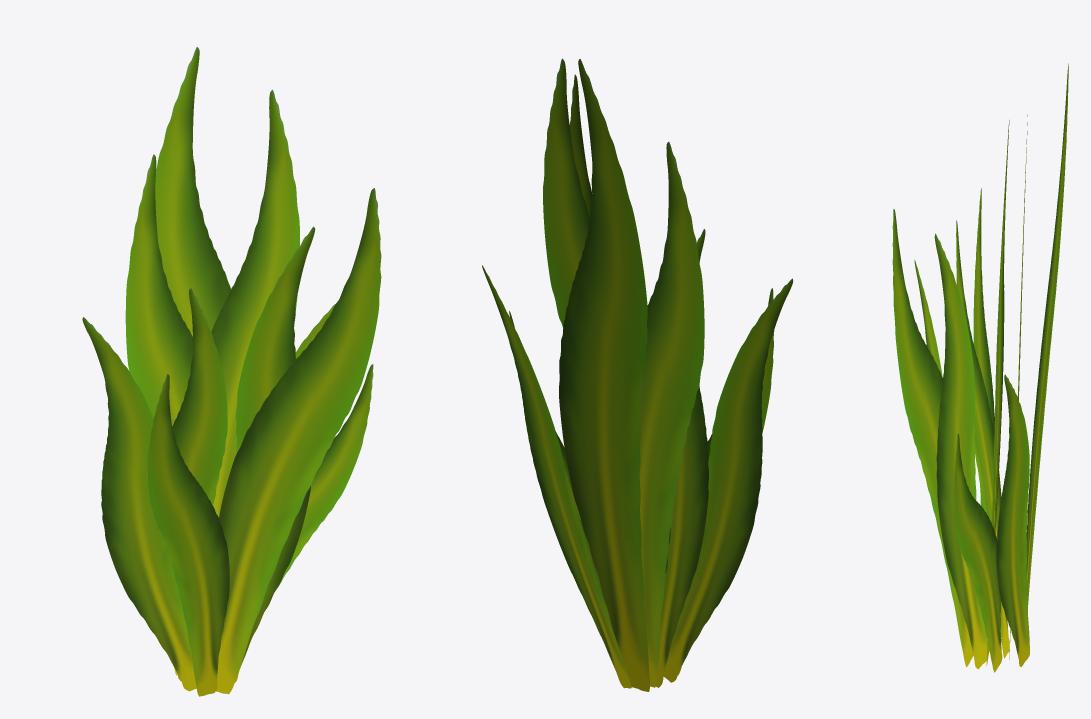
The model's file is Plant02_Dream.glb.
3 views of the same model, side by side, from view 1: azimuth 30°, elevation 25°; view 2: azimuth 150°, elevation 25°; view 3: azimuth 270°, elevation 25° (orthographic). The views are drawn at different scales.
Parts seen in each view (by area): view 1: Plant02_dream; view 2: Plant02_dream; view 3: Plant02_dream.
Boxes of the visible parts, x1=… form: Plant02_dream: x1=82, y1=47, x2=381, y2=696; Plant02_dream: x1=482, y1=58, x2=793, y2=691; Plant02_dream: x1=892, y1=63, x2=1068, y2=672.
Size of the model in its own units: 0.7197 by 1.14 by 0.3159.
1 material, 1 textured.
